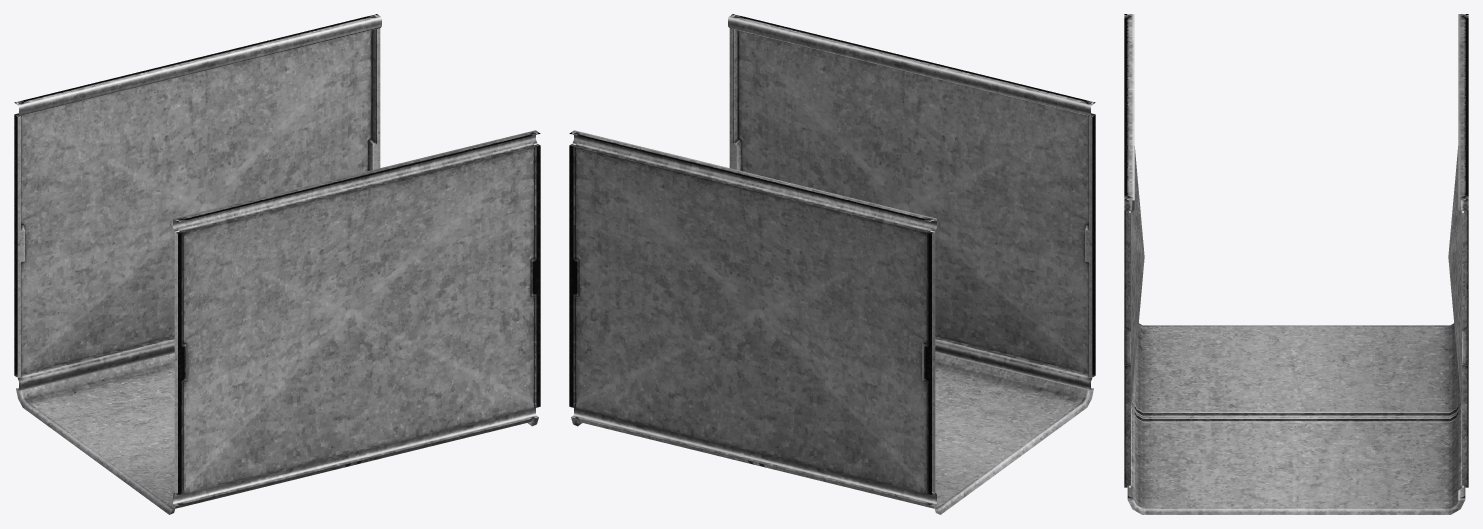
File: vent_shaft_straight_vent_top.dae
3 renders of one model, left to right at view 1: azimuth 30°, elevation 25°; view 2: azimuth 150°, elevation 25°; view 3: azimuth 270°, elevation 25°, orthographic. The views are drawn at different scales.
Parts seen in each view (by area): view 1: straight_vent_top; view 2: straight_vent_top; view 3: straight_vent_top.
Part boxes in pixels (x1,y1,x2,y2): straight_vent_top: (14,14,540,514); straight_vent_top: (569,14,1095,514); straight_vent_top: (1124,14,1468,514).
Size of the model in its own units: 2 by 1.57 by 1.56.
